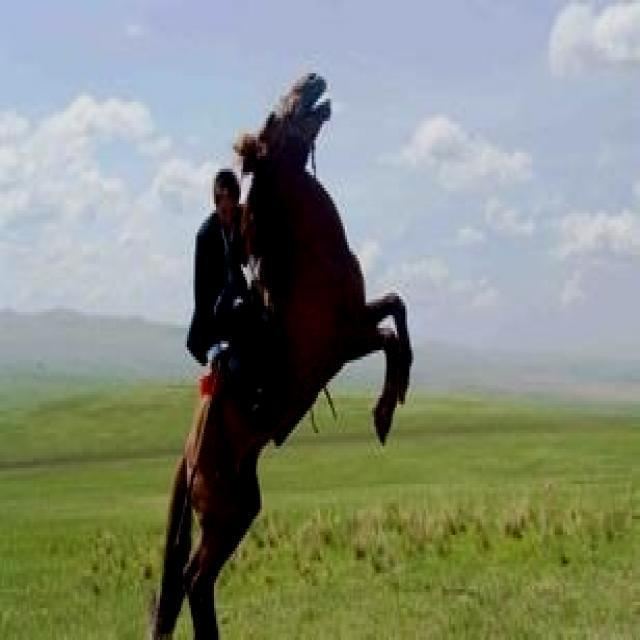no_vest: (189, 215, 252, 344)
